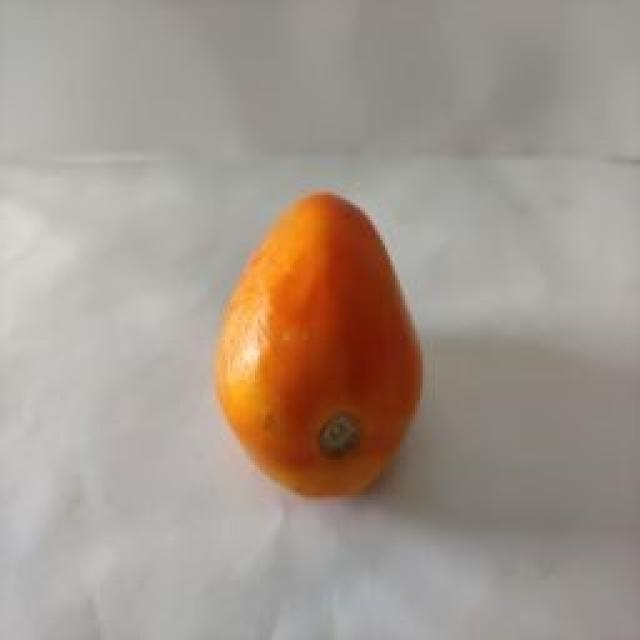Ripe: (220, 184, 425, 496)
